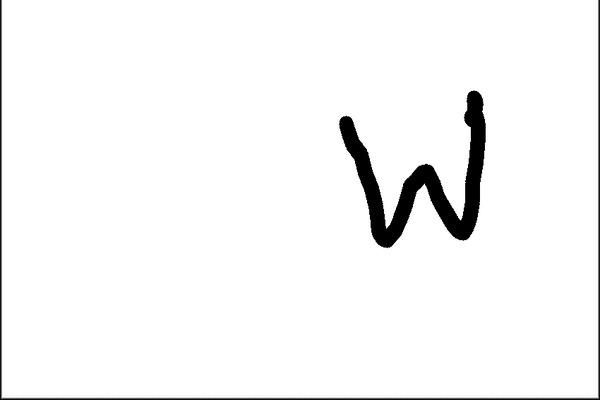w: (322, 78, 503, 260)
